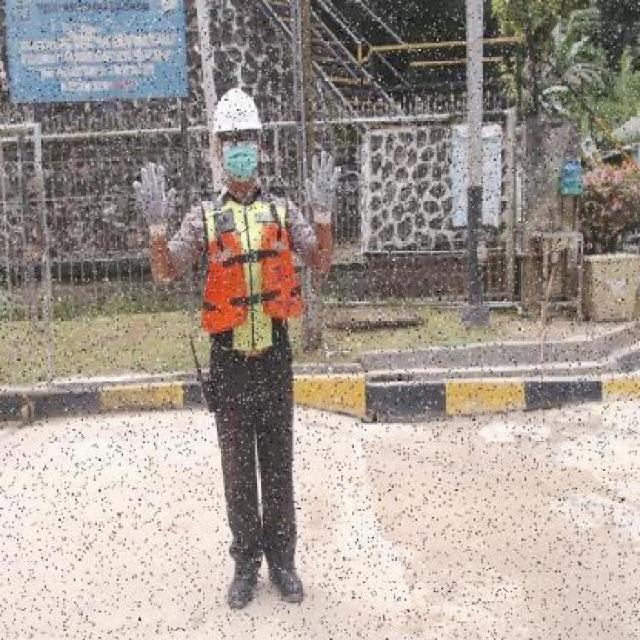Boots: (223, 558, 262, 616), (268, 563, 306, 608)
Gloves: (132, 162, 177, 238), (302, 151, 342, 224)
Helmet: (210, 85, 264, 133)
Mask: (222, 144, 258, 181)
Protective Glasses: (219, 128, 261, 147)
Vest: (200, 220, 305, 334)
